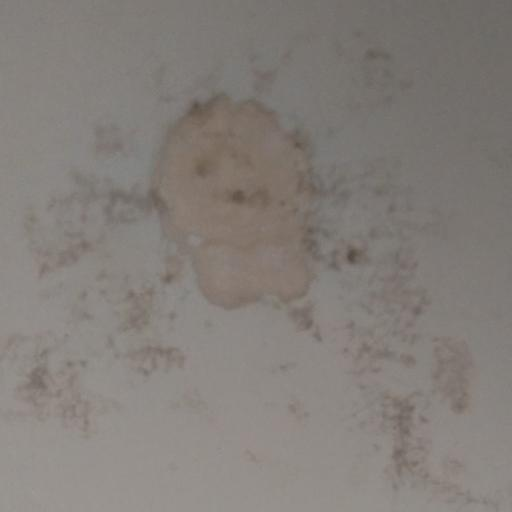stain: (84, 86, 464, 427)
